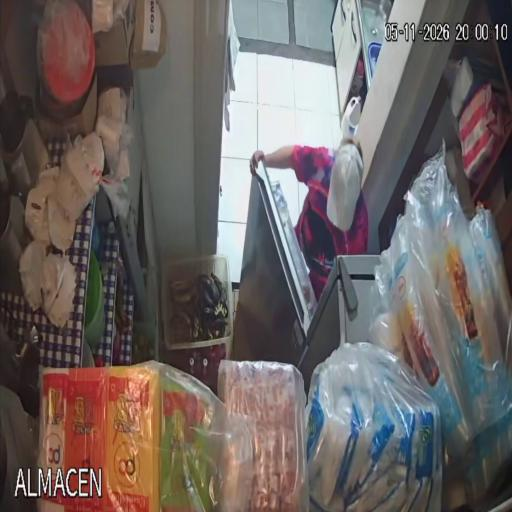Envase para platanos: (162, 255, 233, 358)
Persona2: (250, 138, 368, 299)
Productos culinarios: (369, 142, 512, 504), (30, 361, 252, 512), (306, 342, 443, 512), (218, 361, 309, 512)
Taper: (84, 251, 104, 350)
Taper2: (82, 340, 95, 367)
